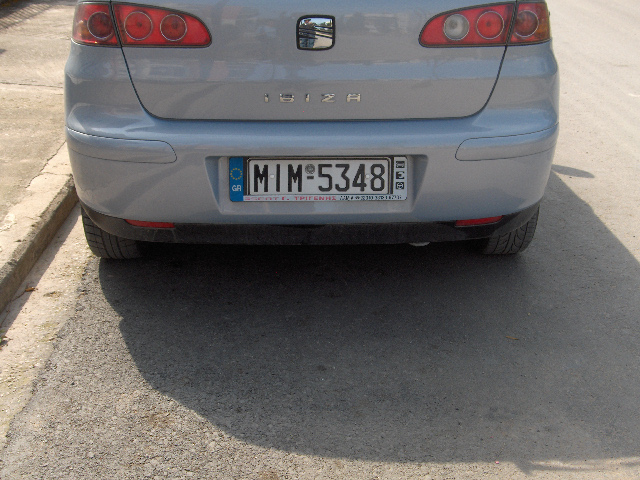licenseplate: (243, 155, 392, 197)
